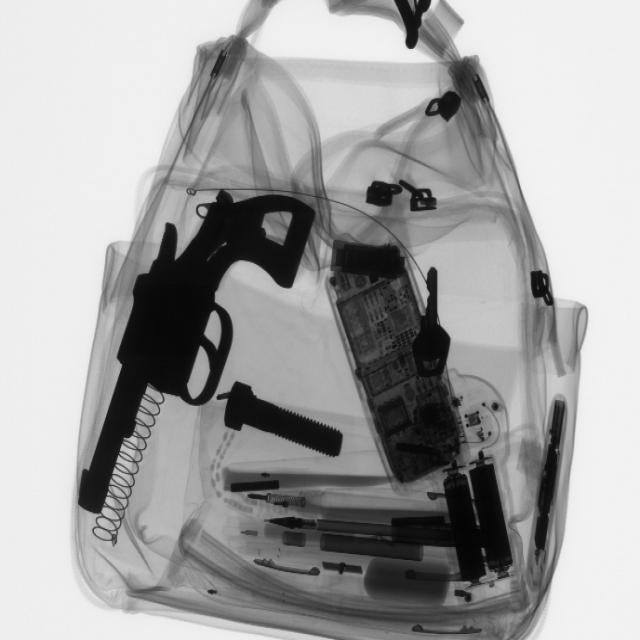GUN: (78, 179, 323, 508), (316, 1, 478, 50)
